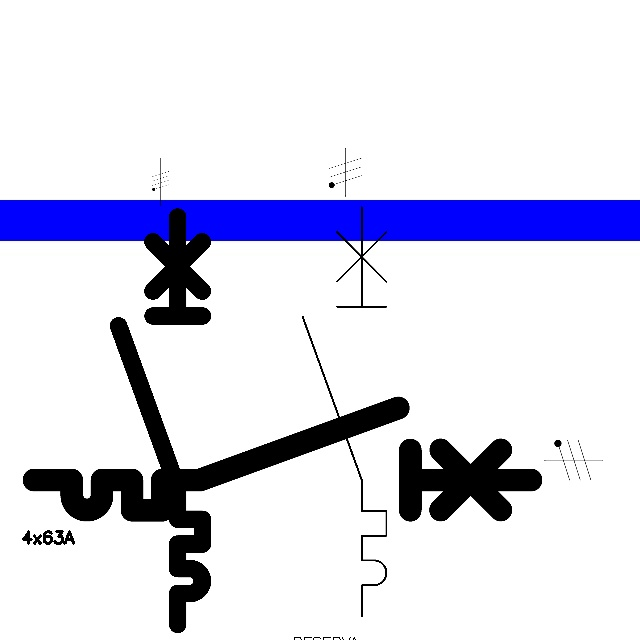interruptor_termomagnetico: (21, 395, 544, 523), (292, 196, 397, 626), (108, 206, 213, 634)
